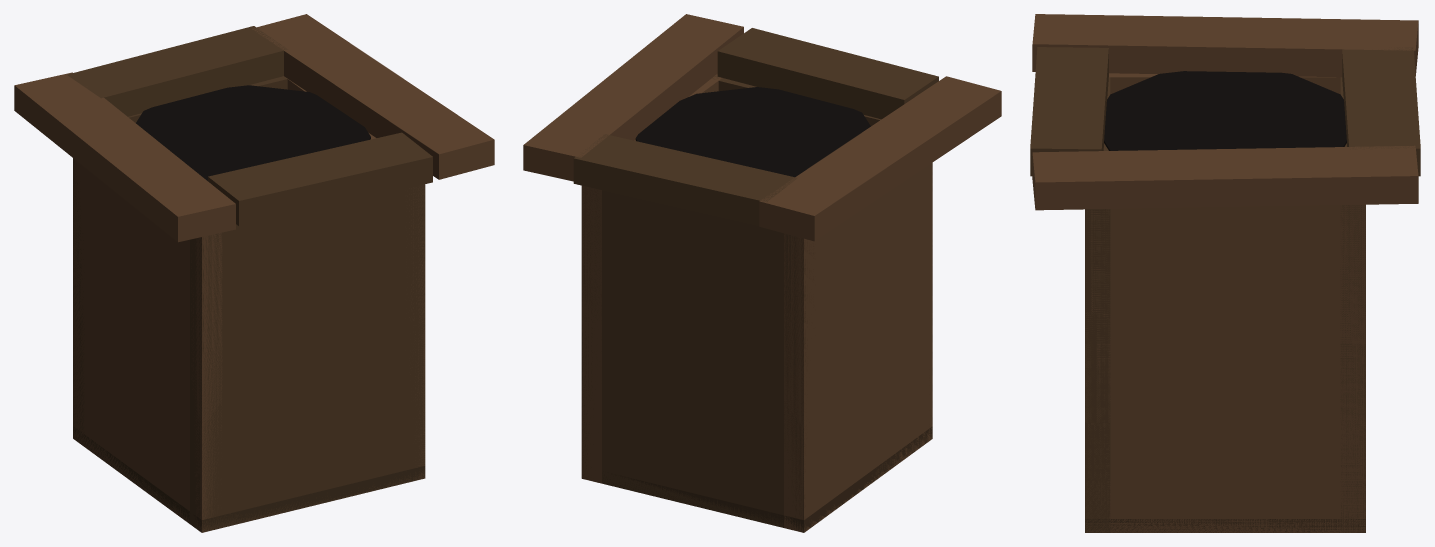
The model's file is trap_pit_open.glb.
The picture shows the model from 3 angles, left to right: view 1: azimuth 30°, elevation 25°; view 2: azimuth 150°, elevation 25°; view 3: azimuth 270°, elevation 25°; orthographic projection. The views are drawn at different scales.
Parts seen in each view (by area): view 1: Pit, Mouth; view 2: Pit, Mouth; view 3: Pit, Mouth.
Part boxes in pixels (x1,y1,x2,y2): Pit: [14, 14, 494, 532]; Mouth: [136, 85, 370, 180]; Pit: [523, 14, 1001, 532]; Mouth: [635, 87, 870, 177]; Pit: [1030, 14, 1420, 532]; Mouth: [1104, 71, 1346, 150].
Size of the model in its own units: 1.56 by 1.62 by 1.53.
